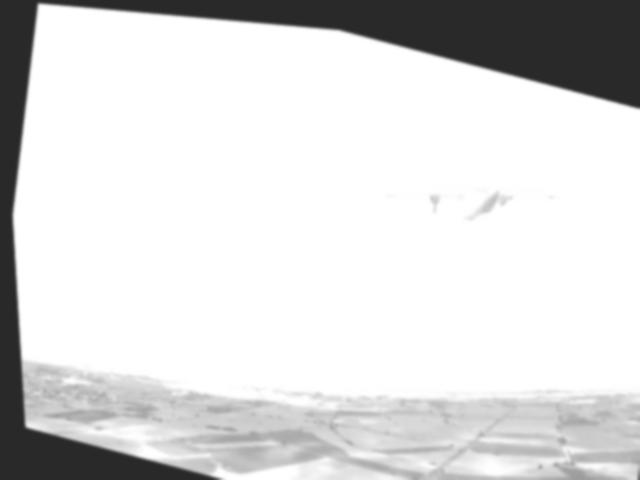hedef: (329, 67, 623, 287)
